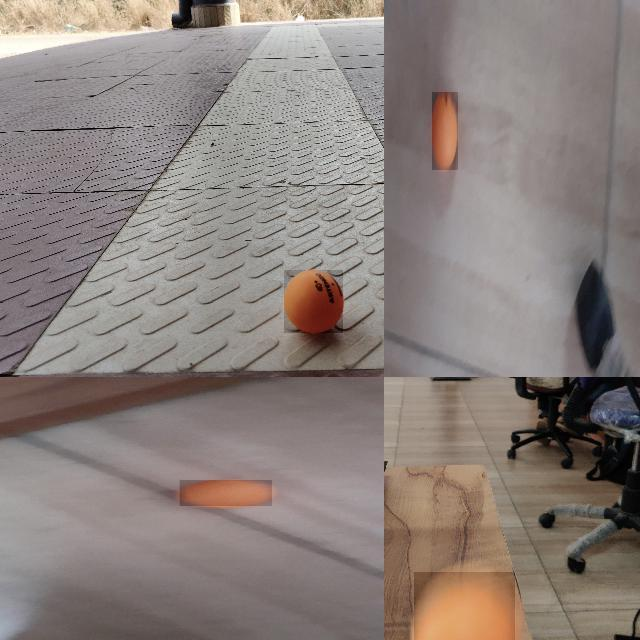ping-pong-ball: (414, 572, 517, 639), (284, 270, 344, 334), (180, 479, 274, 506), (432, 92, 458, 171)
